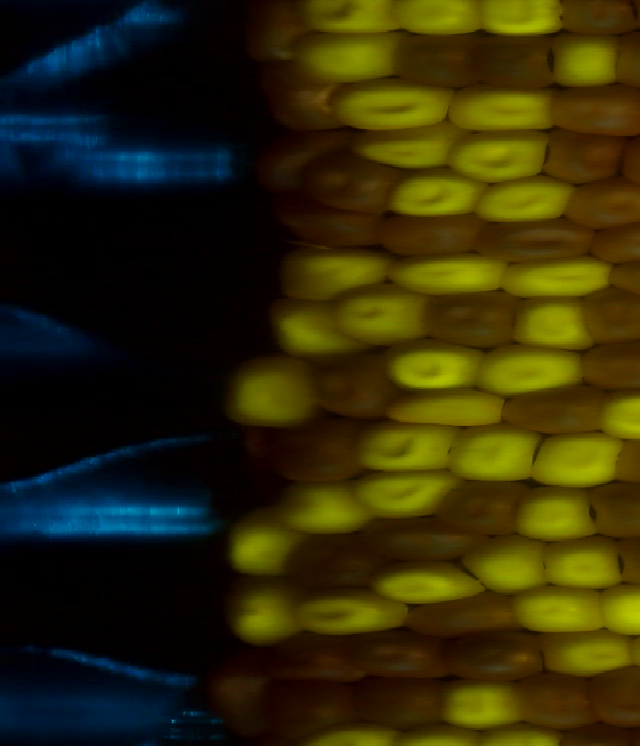fluorescent: (447, 78, 561, 137), (330, 285, 435, 345), (446, 417, 541, 483), (384, 386, 504, 437), (335, 80, 452, 130), (445, 128, 546, 185), (530, 430, 626, 487), (282, 246, 393, 295), (434, 674, 524, 732), (291, 583, 400, 630), (473, 171, 573, 222), (540, 629, 640, 680), (268, 481, 366, 533), (514, 587, 612, 639), (228, 365, 310, 427), (492, 346, 591, 397), (391, 250, 503, 295), (358, 422, 457, 472), (218, 581, 300, 641), (472, 538, 556, 596), (538, 538, 624, 593), (500, 256, 613, 297), (509, 299, 593, 354), (352, 122, 450, 169), (358, 469, 456, 516), (384, 169, 479, 217), (304, 33, 396, 82), (387, 340, 475, 390), (276, 302, 350, 361), (517, 487, 597, 541), (542, 32, 619, 88), (388, 562, 489, 603), (231, 518, 294, 571), (482, 1, 560, 41), (394, 2, 482, 37), (314, 1, 393, 35), (605, 388, 640, 441), (607, 581, 640, 634)
nonfluorescent: (363, 513, 489, 562), (419, 288, 518, 350), (272, 412, 360, 480), (205, 650, 270, 740), (355, 669, 451, 729), (484, 218, 596, 269), (438, 633, 546, 685), (307, 356, 394, 418), (263, 630, 366, 682), (261, 682, 361, 735), (514, 669, 599, 730), (507, 385, 602, 437), (400, 29, 477, 93), (347, 637, 454, 682), (376, 211, 484, 255), (442, 476, 523, 534), (286, 534, 376, 586), (476, 30, 556, 88), (555, 87, 640, 141), (544, 127, 620, 185), (410, 592, 513, 634), (282, 193, 372, 241), (266, 75, 341, 132), (250, 129, 328, 183), (246, 1, 303, 70), (315, 155, 386, 209), (577, 169, 640, 228), (584, 282, 640, 344), (589, 665, 640, 733), (573, 343, 640, 391), (588, 485, 640, 541), (562, 2, 639, 38), (589, 218, 640, 256), (609, 533, 640, 593), (607, 250, 640, 303)
